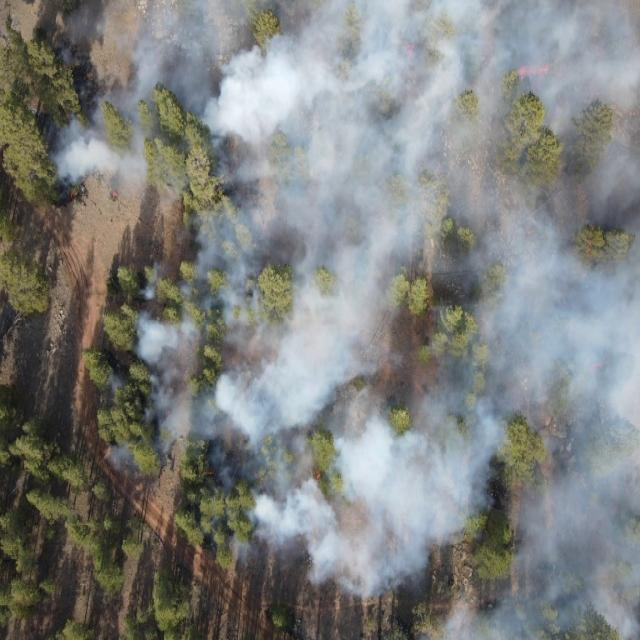fire: (514, 60, 556, 76), (403, 39, 418, 60), (587, 230, 596, 255), (312, 468, 324, 484), (67, 186, 79, 200), (200, 468, 218, 476), (110, 189, 120, 203), (594, 362, 608, 372), (164, 408, 172, 418)
smoke: (48, 1, 640, 208), (188, 208, 494, 601), (495, 210, 640, 452), (513, 451, 640, 640), (132, 310, 188, 449), (418, 600, 514, 640), (138, 268, 188, 298), (100, 444, 138, 478), (102, 370, 130, 395)
